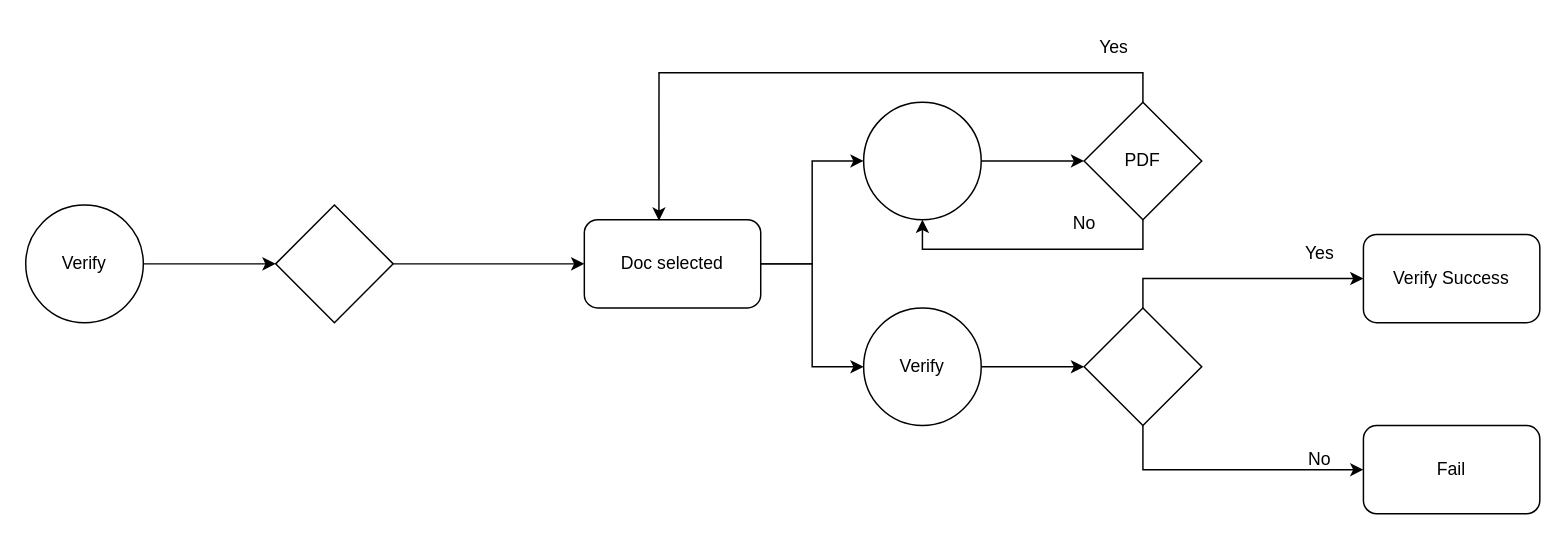
Some shapes in this 1566 by 539 pixel diagram are drawn without their labels. The shapes that lost their labels are listed below. From the top down, each one's centre as x and y in pixels, then its label:
the point at 921,160: Upload
the point at 333,263: Correct
the point at 1142,366: Success
